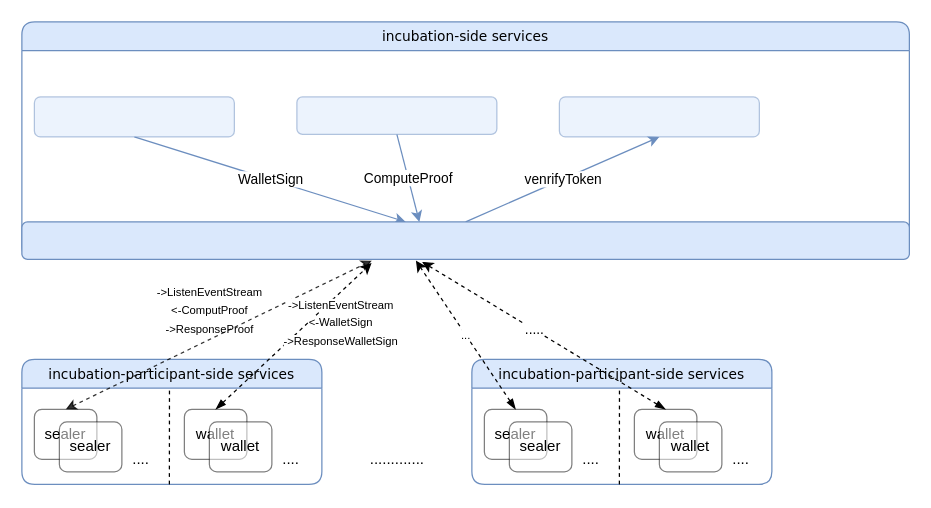
Image size: 931x508. Some labels were removed from this diagram. The centre of each missing label's shape, as x and y in pixels:
"venus-auth" goes at point 658,116.
"Venus-gateway" goes at point 465,240.
"Venus-messenger" goes at point 133,116.
"venus-miner" goes at point 396,115.
